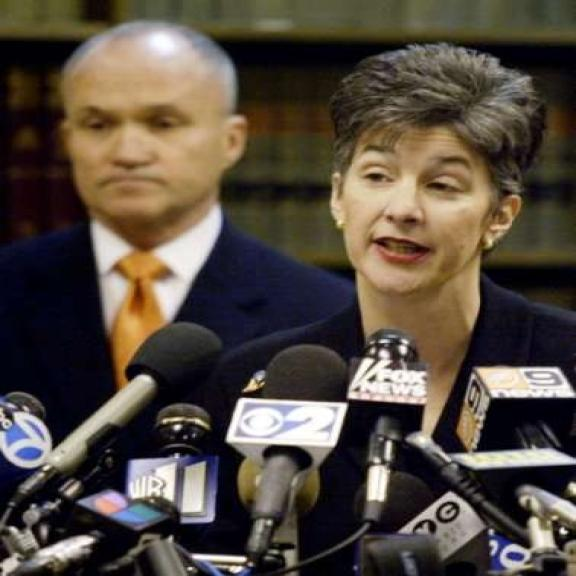face: (333, 120, 525, 298), (59, 57, 254, 225)
